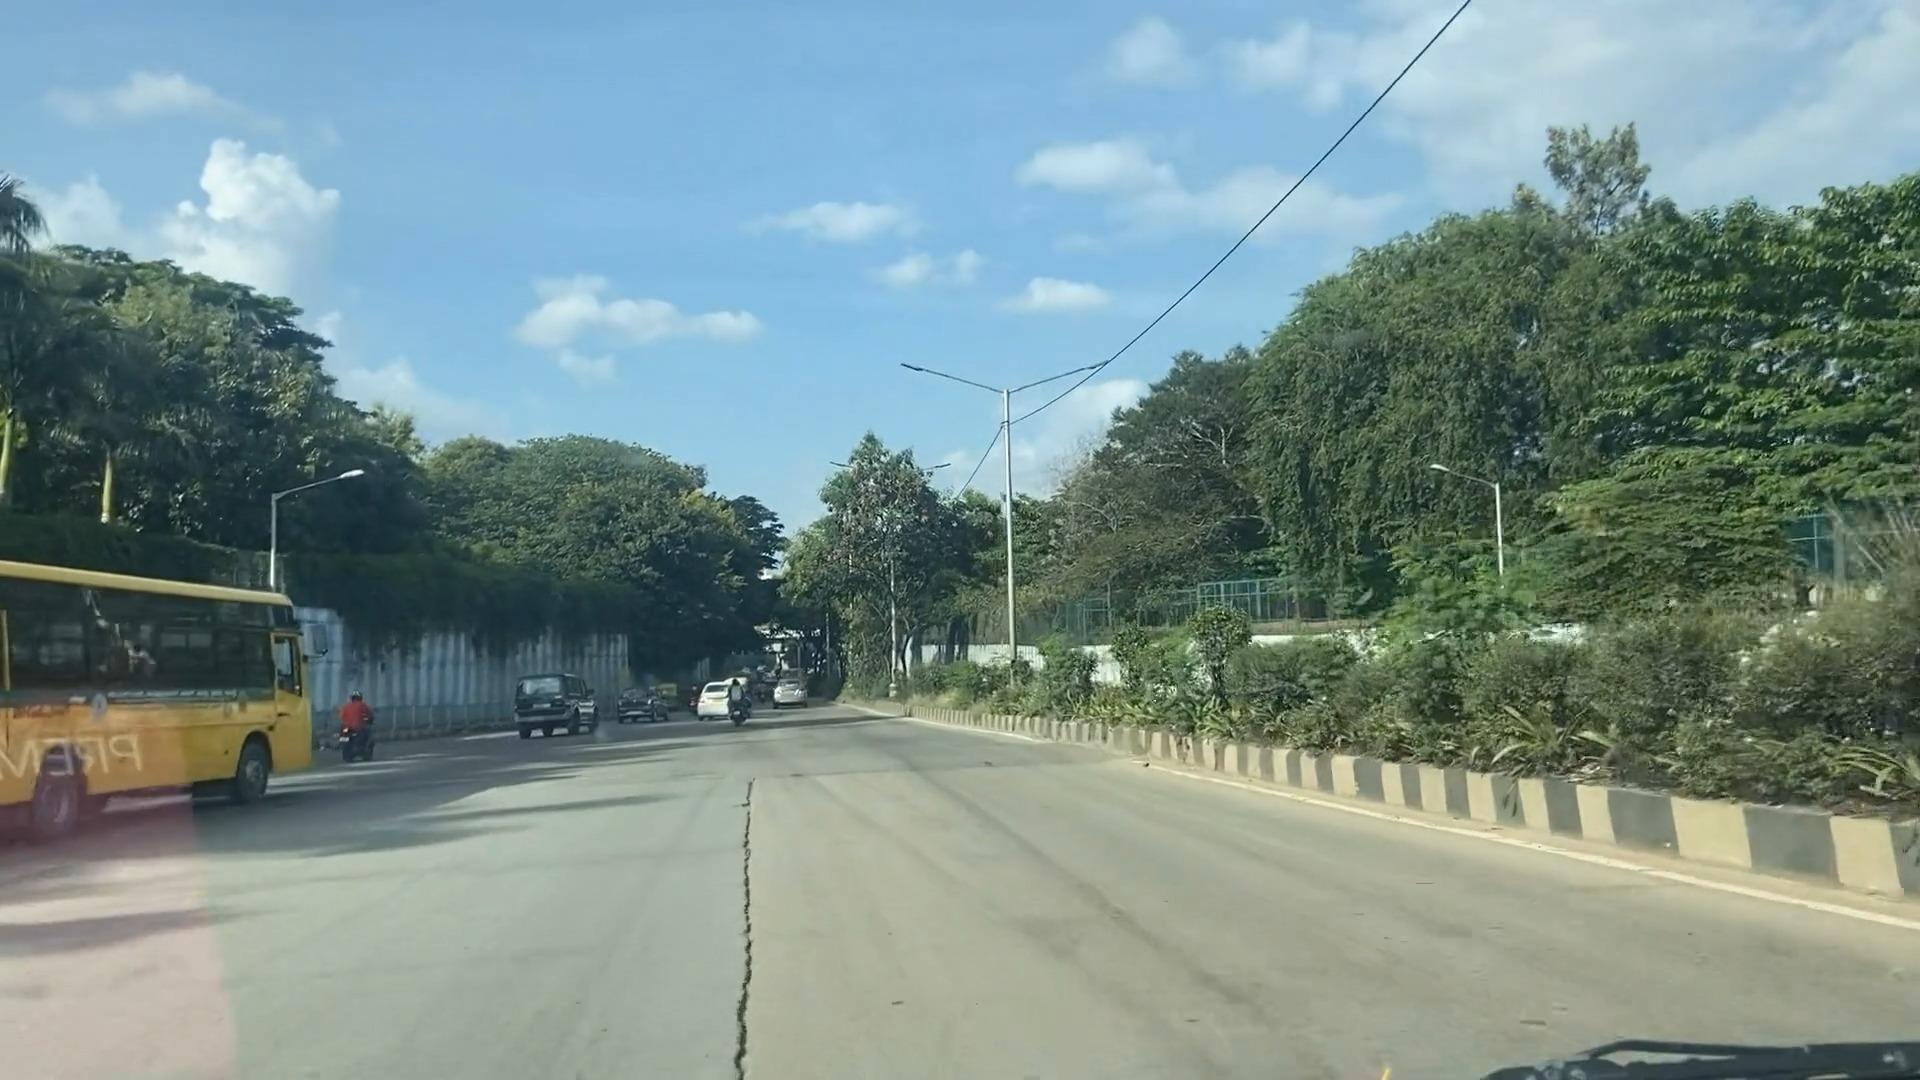RoadDamages: (715, 770, 771, 1080)
